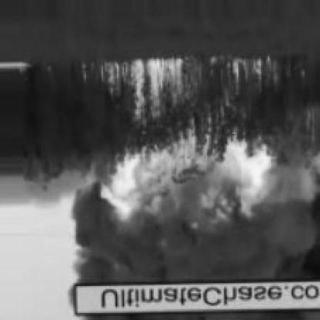Smoke: (98, 233, 300, 283)
